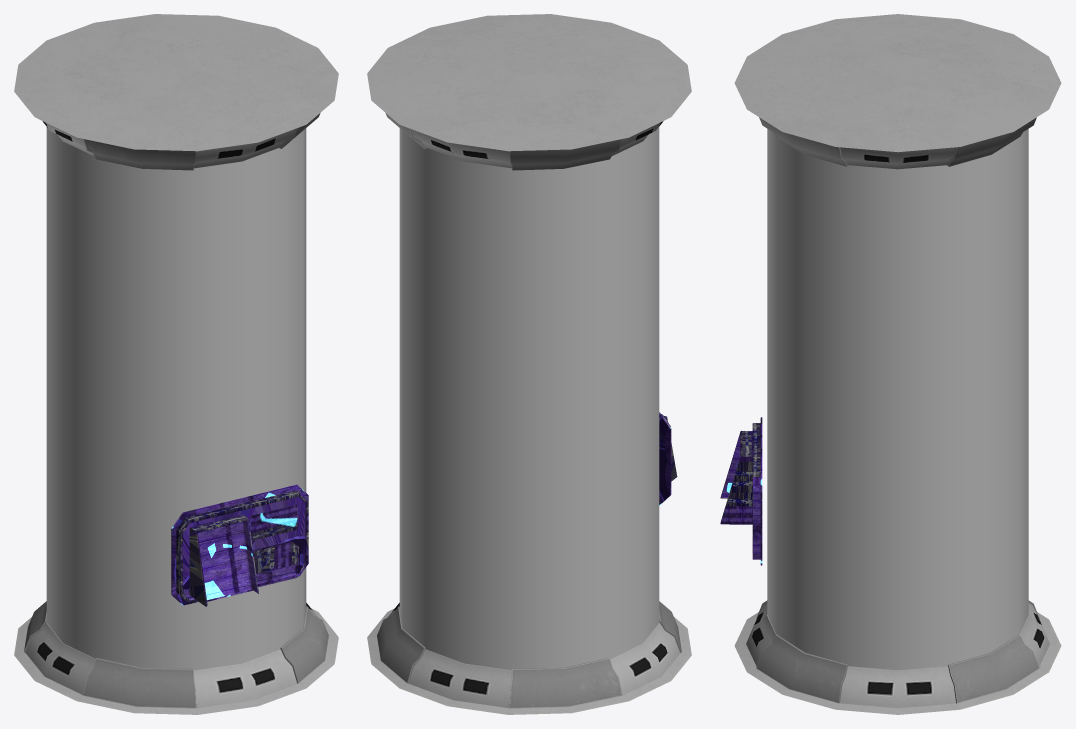
Rendered from Reactor.fbx.
3 renders of one model, left to right at view 1: azimuth 30°, elevation 25°; view 2: azimuth 150°, elevation 25°; view 3: azimuth 270°, elevation 25°, orthographic.
Parts seen in each view (by area): view 1: Glass, Cylinder_1, Cylinder, ScifiKeypad; view 2: Glass, Cylinder_1, Cylinder, ScifiKeypad; view 3: Glass, Cylinder_1, Cylinder, ScifiKeypad.
Part boxes in pixels (left/top/right/bottom): Glass: left=46, top=127, right=306, bottom=670; Cylinder_1: left=14, top=14, right=338, bottom=170; Cylinder: left=14, top=601, right=338, bottom=714; ScifiKeypad: left=171, top=484, right=308, bottom=606; Glass: left=399, top=127, right=659, bottom=670; Cylinder_1: left=367, top=14, right=691, bottom=170; Cylinder: left=367, top=601, right=691, bottom=714; ScifiKeypad: left=659, top=412, right=677, bottom=505; Glass: left=767, top=129, right=1028, bottom=670; Cylinder_1: left=734, top=14, right=1061, bottom=169; Cylinder: left=734, top=600, right=1061, bottom=714; ScifiKeypad: left=720, top=417, right=762, bottom=565.
Bounding box in the file's own units: 439 × 854 × 458.
